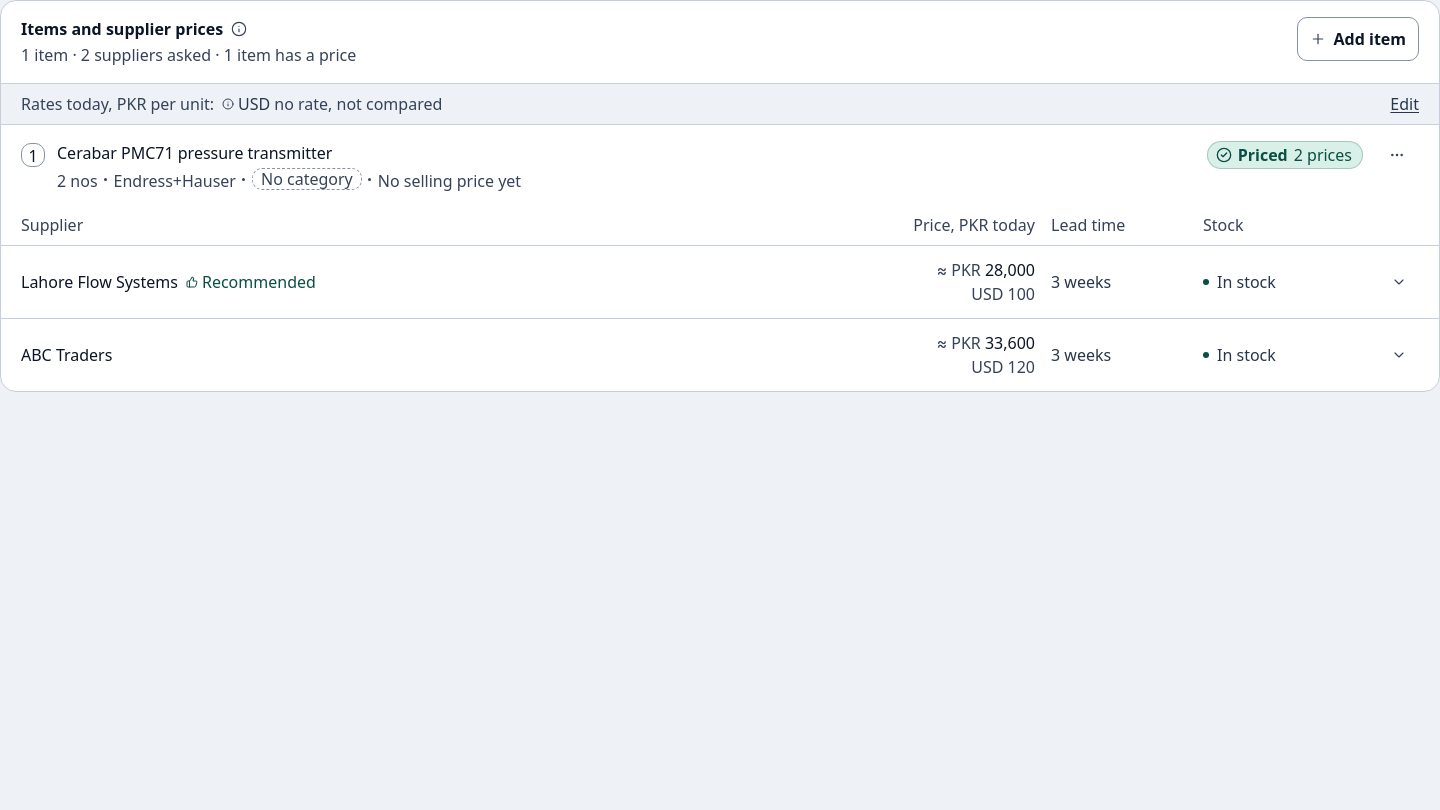
Test: the supplier comparison › each price is one line in PKR at today’s rate; the supplier’s own figure, the rate and the reasons open on request
Expected: the text "USD 100" is shown, [971,282,1035,306]
Expected: the text "Quoted USD" is not shown
Click the button named "Show details for Lahore Flow Systems" at (1399, 282), box [1379,262,1419,302]
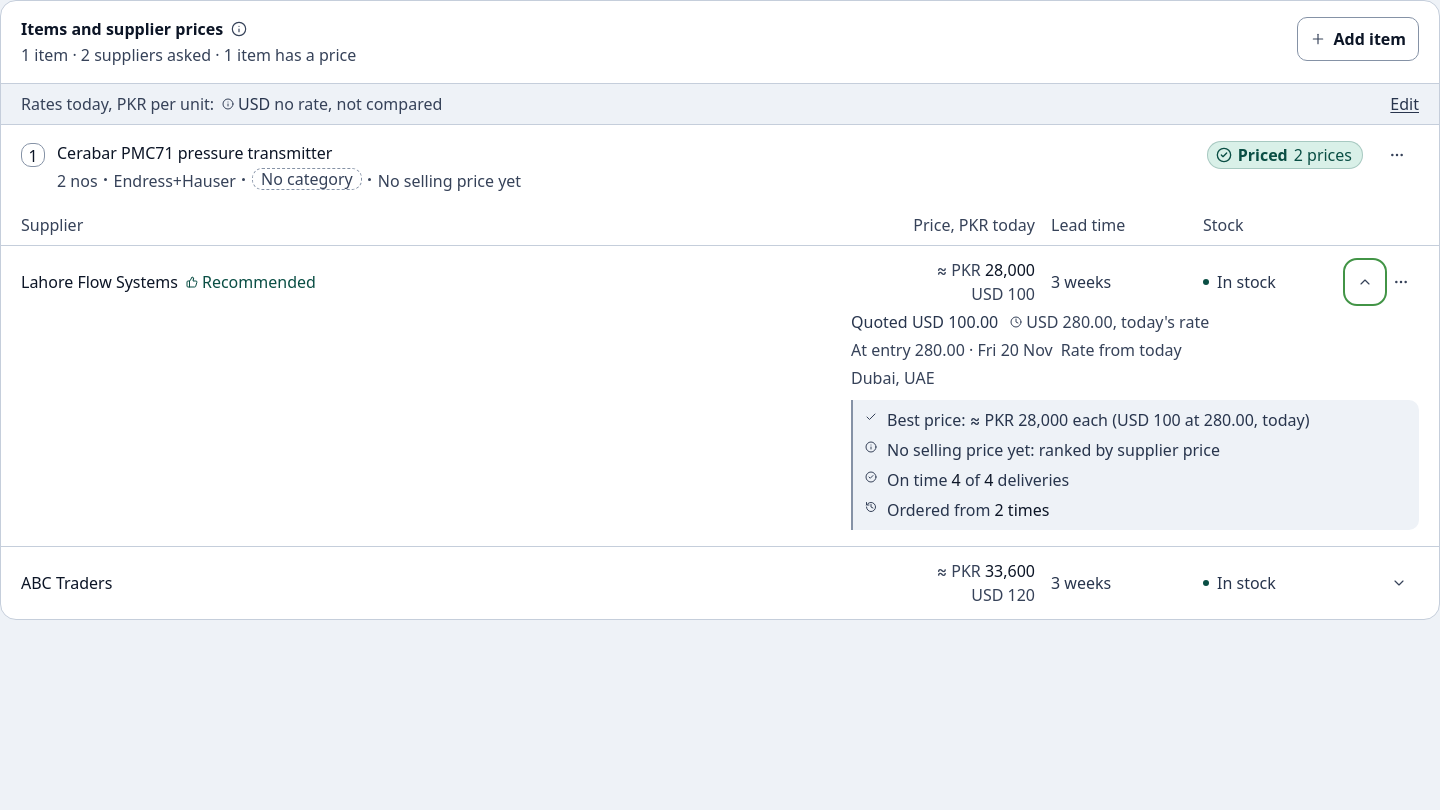
Result: the text "Quoted USD 100.00" is shown at [851,310,998,334]
Result: the text "USD 280.00, today's rate" is shown at [1026,310,1209,334]
Result: the text "Dubai, UAE" is shown at [851,367,935,389]
